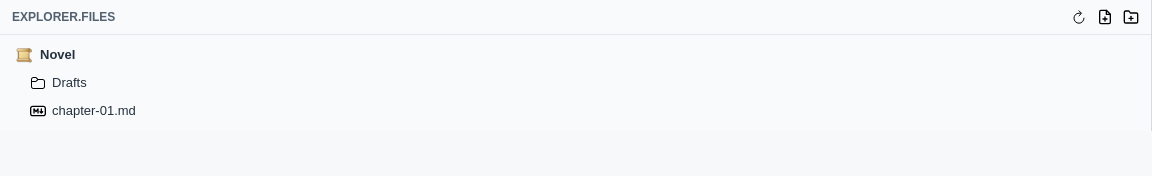
Test: FileExplorer › loads only the expanded folder direct children
Click the list item "Drafts".
click(69, 82)  # box [6,69,1145,97]
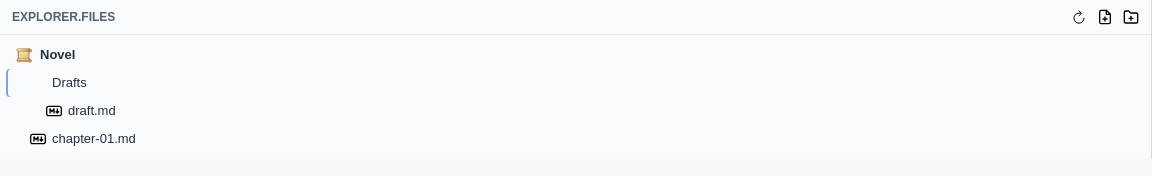
Check: the text "draft.md" is shown, box [68,103,116,118]
Click the list item "Drafts".
click(69, 82)  # box [6,69,1145,97]
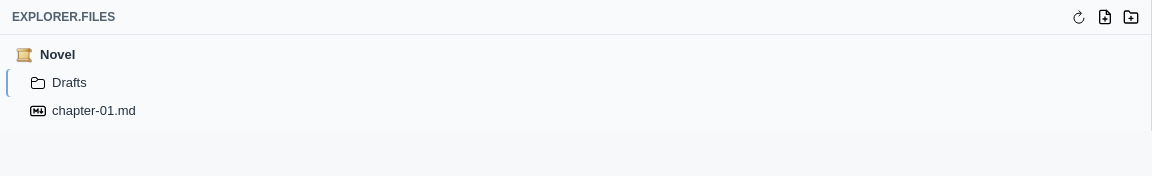
Check: the text "draft.md" is gone
